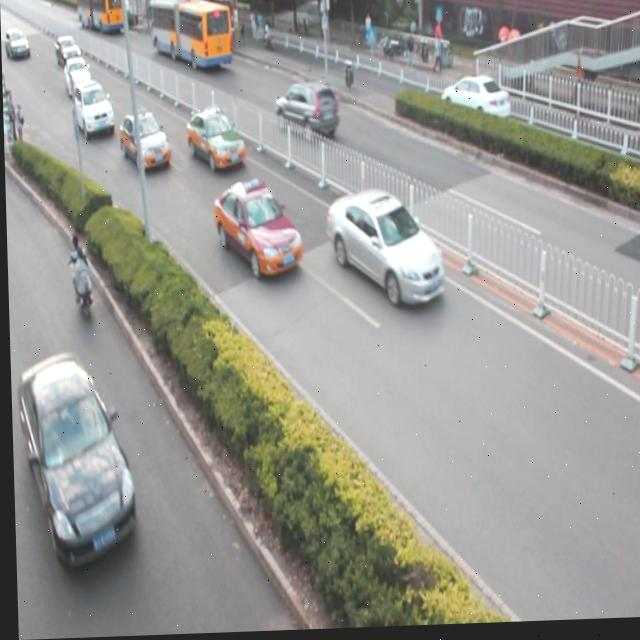car: (14, 349, 135, 565), (325, 188, 444, 315), (211, 177, 301, 280), (272, 80, 338, 146), (438, 75, 509, 135), (185, 107, 244, 173), (118, 109, 169, 171), (73, 81, 115, 139), (63, 55, 92, 99)
van: (149, 0, 231, 74)
